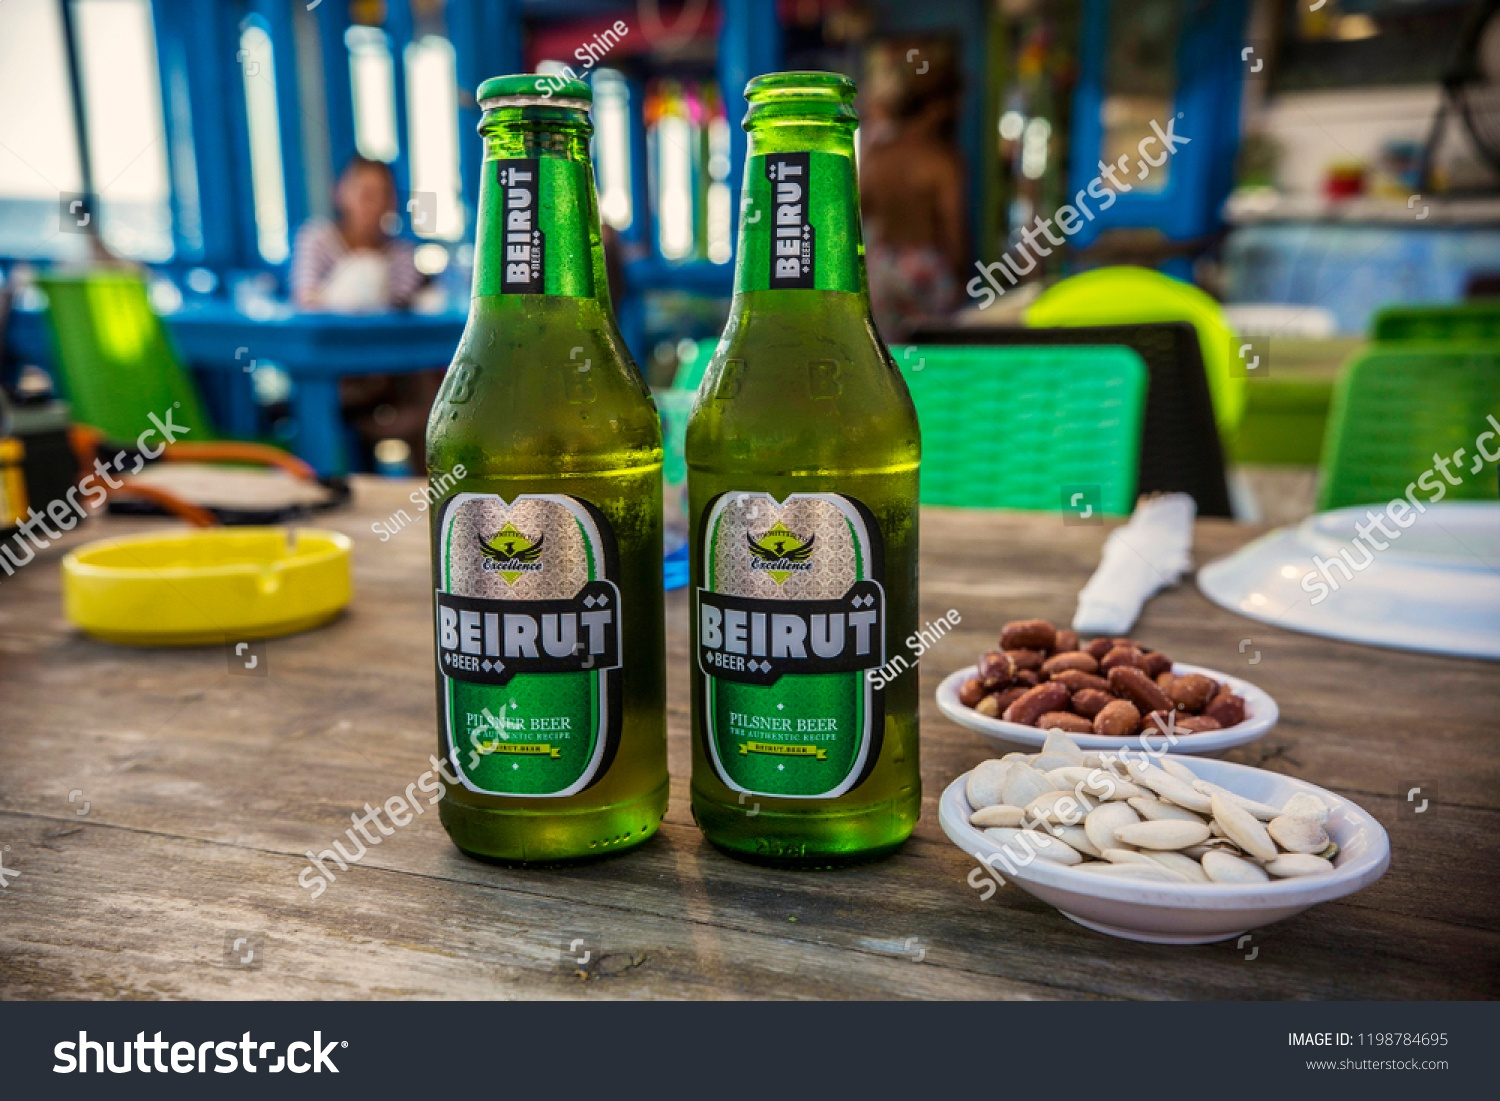beerBottle: (685, 73, 935, 856), (419, 85, 668, 868)
